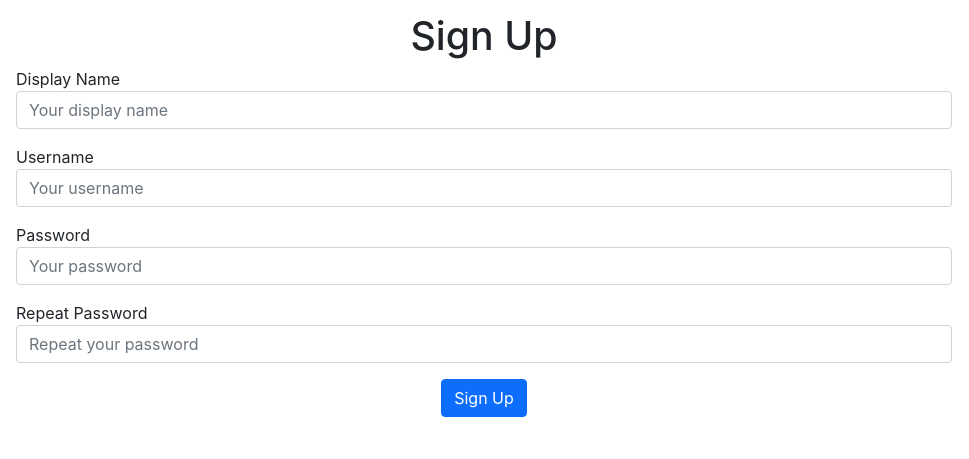
UserSignupPage › interactions › hides the validation error when the user changes the content of displayName
Type "my-display-name" into the field with placeholder "Your display name" at (484, 110), box [16,91,952,129]
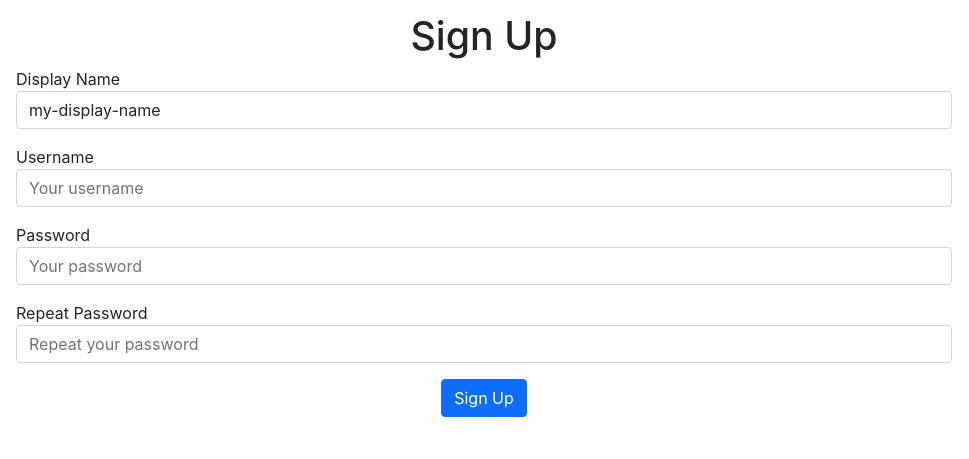
Type "my-user-name" into the field with placeholder "Your username" at (484, 188), box [16,169,952,207]
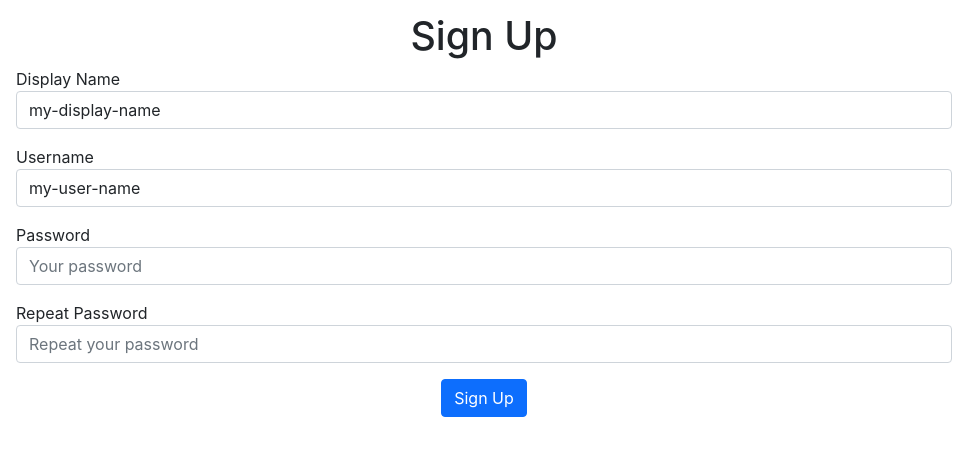
Type "P4ssword" into the password field with placeholder "Your password" at (484, 266), box [16,247,952,285]
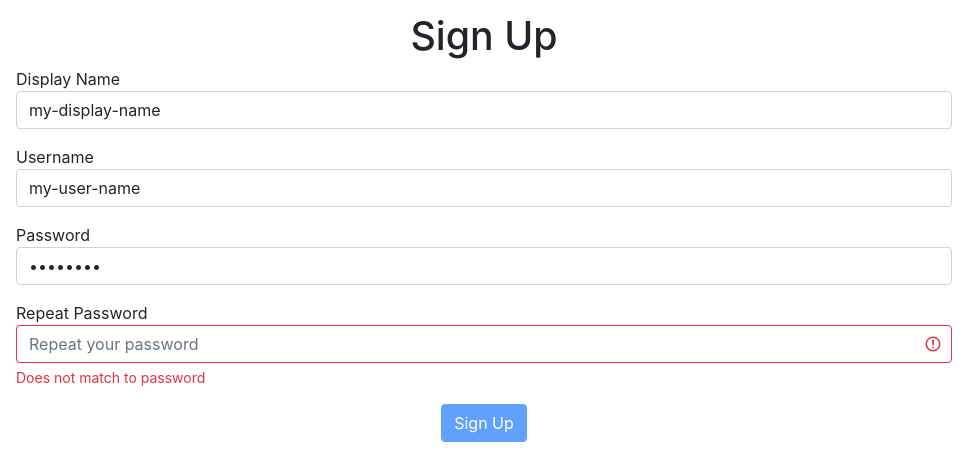
Type "P4ssword" into the password field with placeholder "Repeat your password" at (484, 344), box [16,325,952,363]
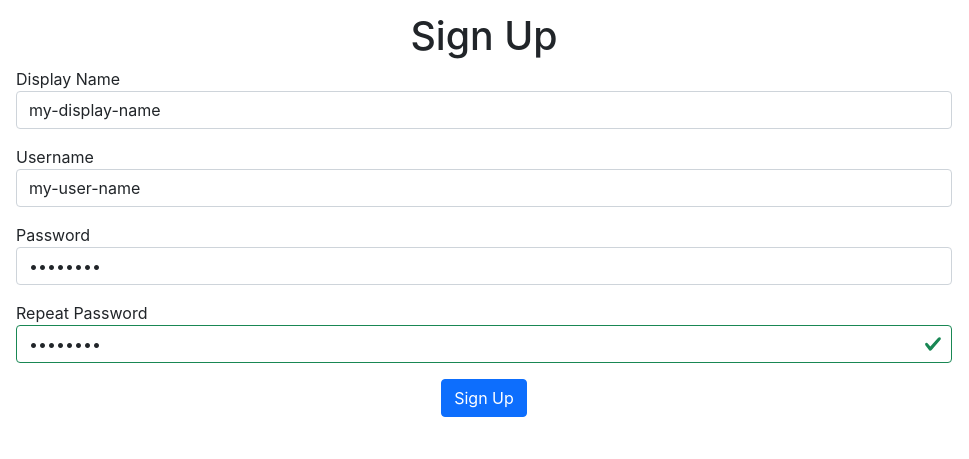
Click the button "Sign Up" at (484, 398), box [441,379,527,417]
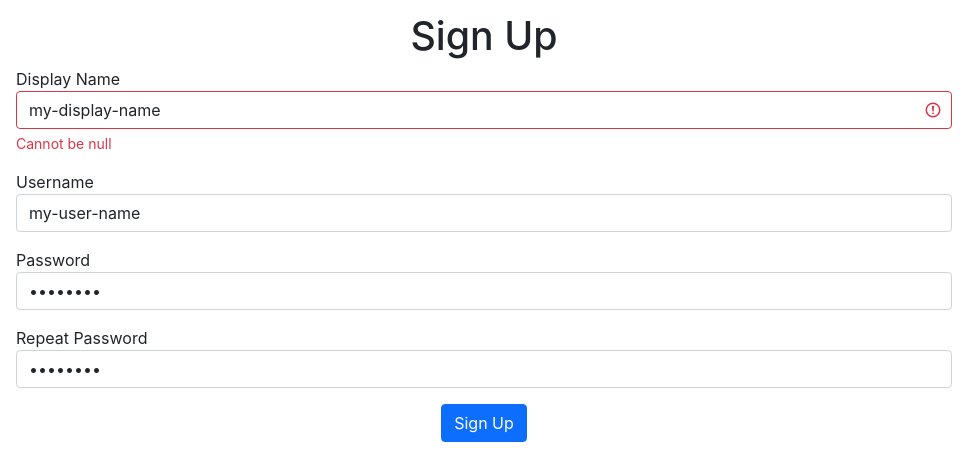
Replace the text in the field with placeholder "Your display name" below "Display Name" with "name updated" at (484, 110), box [16,91,952,129]
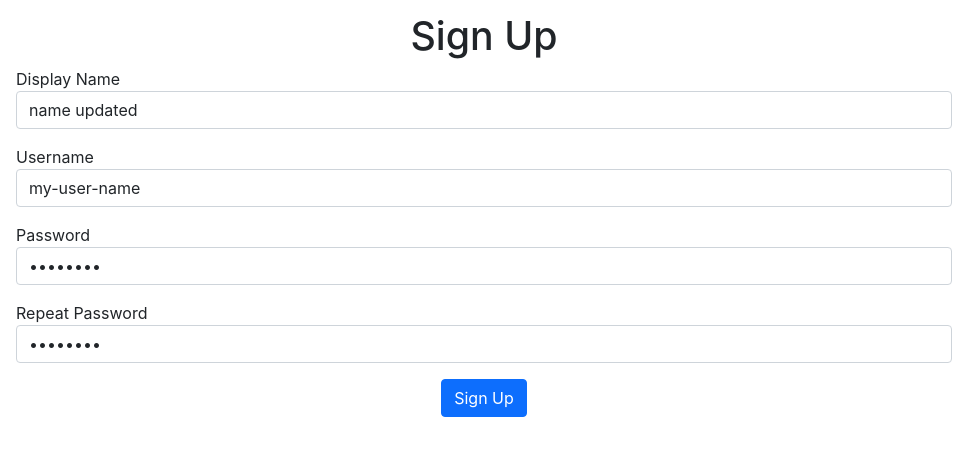
Result: the text "Cannot be null" is gone
